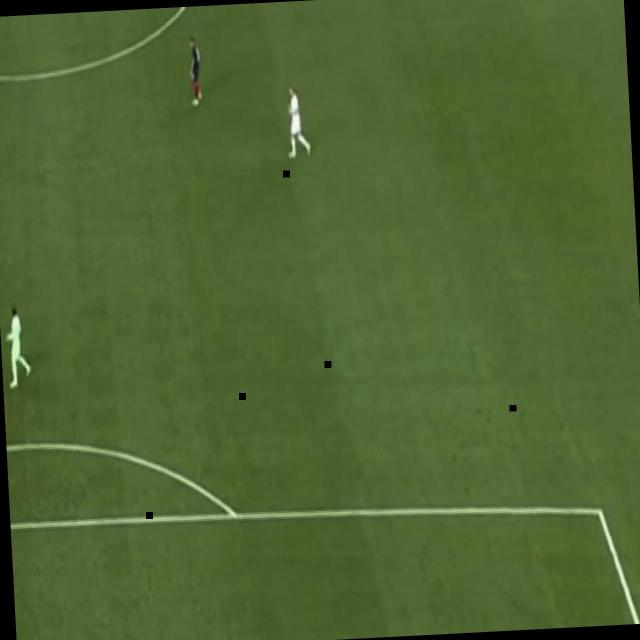player-white: (0, 296, 34, 392), (282, 79, 314, 166), (181, 30, 206, 112)
